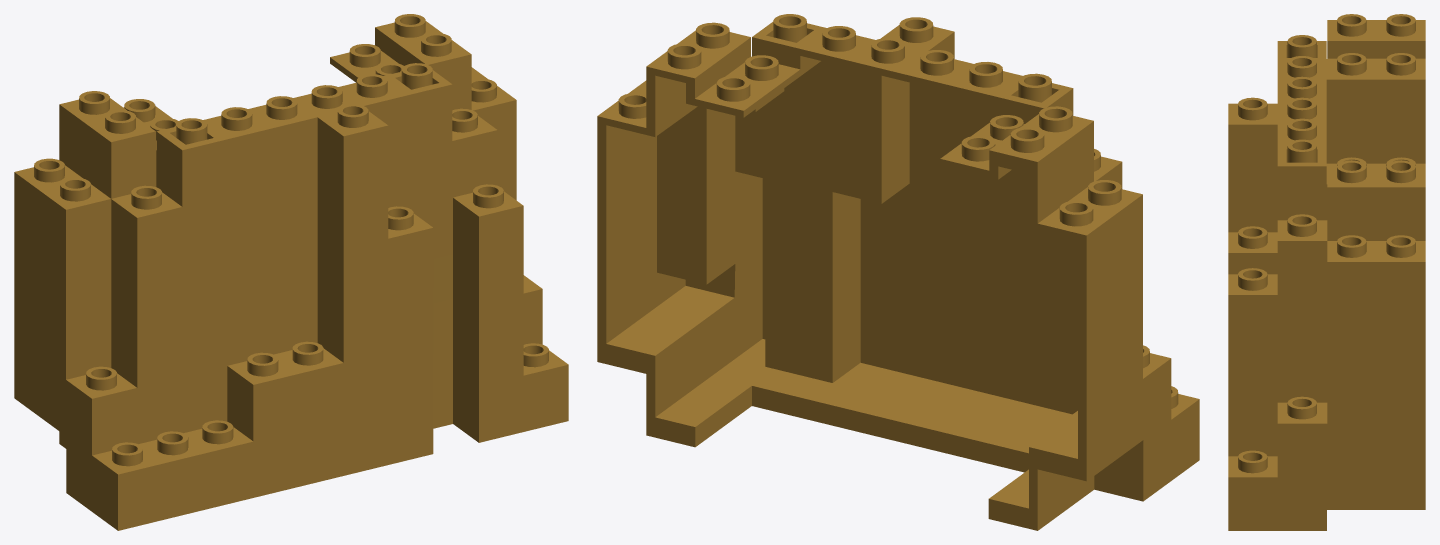
3 views of the same model, side by side, from view 1: azimuth 30°, elevation 25°; view 2: azimuth 150°, elevation 25°; view 3: azimuth 270°, elevation 25° (orthographic). The views are drawn at different scales.
Visible parts, largest first — view 1: Part.0; view 2: Part.0; view 3: Part.0.
Boxes of the visible parts, x1,y1,x2,y2 form: Part.0: [14, 14, 568, 530]; Part.0: [597, 14, 1199, 530]; Part.0: [1228, 14, 1425, 530].
Bounding box in the file's own units: 79.92 × 59.38 × 31.92.
